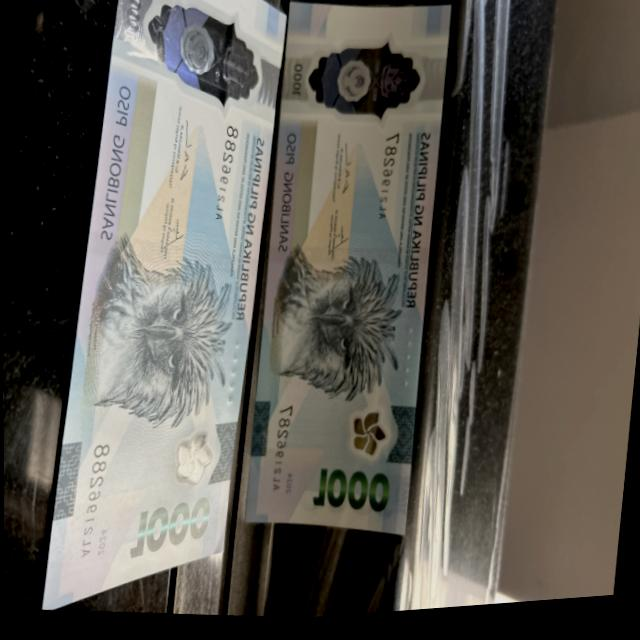clear_window: (139, 0, 269, 120), (299, 25, 427, 132)
eagle: (87, 245, 235, 427), (262, 241, 411, 409)
sampaguita: (167, 427, 220, 492), (342, 410, 388, 469)
serial_number: (73, 435, 108, 560), (368, 133, 403, 253), (212, 116, 237, 229)
value: (307, 458, 391, 532), (127, 492, 213, 560)
